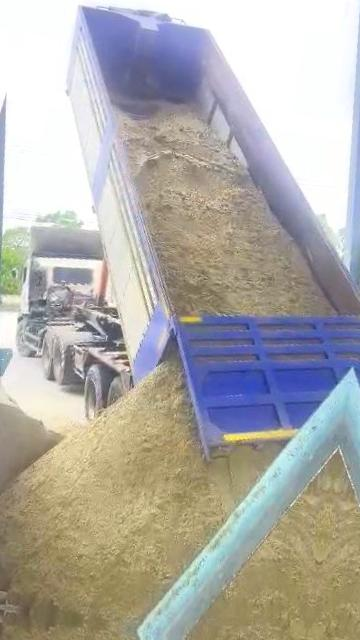sand: (0, 363, 272, 630), (120, 106, 333, 314), (192, 459, 336, 640), (0, 387, 62, 517)
